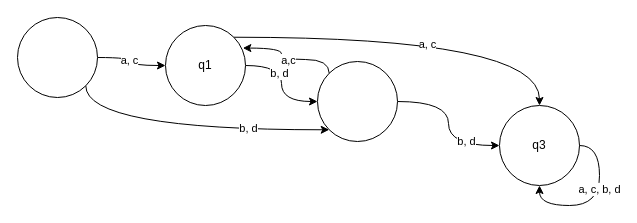
Image size: 637x223. Some labels were removed from this diagram. Here are the shapes that lost their labels. From the top down, the box of each, then its label:
(16, 16, 98, 98): q0
(316, 60, 398, 142): q2
